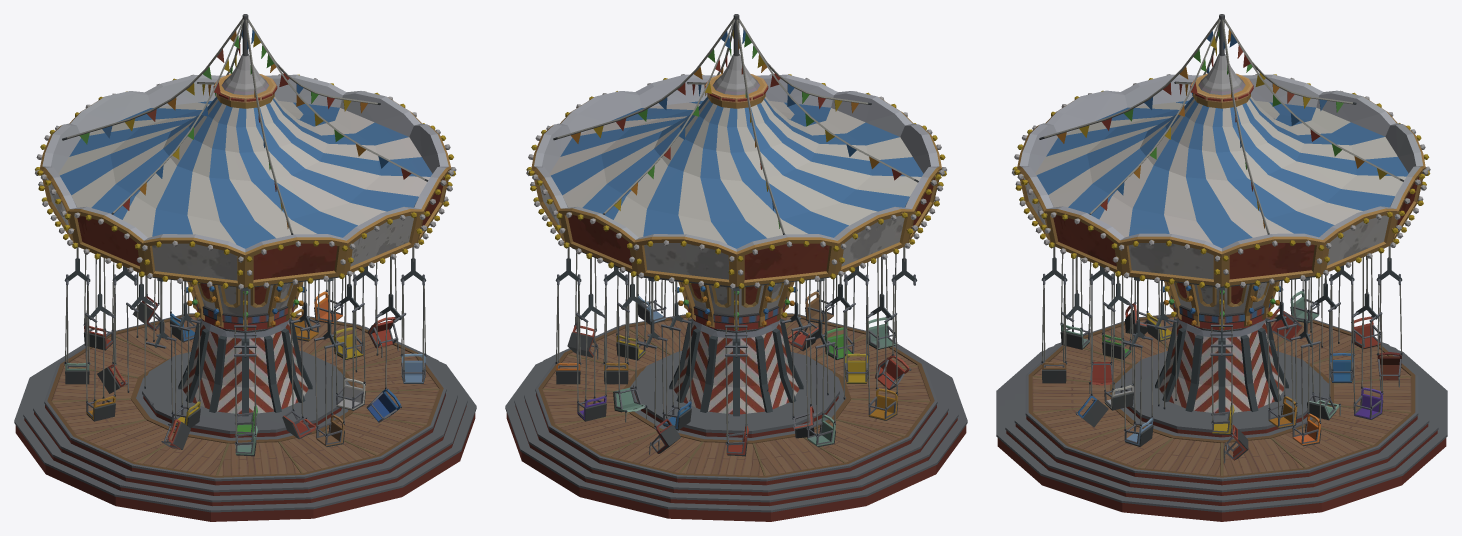
Rendered from SM_Prop_Swinging_Chairs_01.glb.
3 views of the same model, side by side, from view 1: azimuth 30°, elevation 25°; view 2: azimuth 150°, elevation 25°; view 3: azimuth 270°, elevation 25° (orthographic).
Parts seen in each view (by area): view 1: SM_Prop_Swinging_Chairs_01, SM_Prop_Swinging_Chairs_01_woodFloor_01; view 2: SM_Prop_Swinging_Chairs_01, SM_Prop_Swinging_Chairs_01_woodFloor_01; view 3: SM_Prop_Swinging_Chairs_01, SM_Prop_Swinging_Chairs_01_woodFloor_01.
Part boxes in pixels (x1,y1,x2,y2): SM_Prop_Swinging_Chairs_01: (14,14,476,521); SM_Prop_Swinging_Chairs_01_woodFloor_01: (52,316,438,475); SM_Prop_Swinging_Chairs_01: (505,14,967,521); SM_Prop_Swinging_Chairs_01_woodFloor_01: (543,316,929,475); SM_Prop_Swinging_Chairs_01: (996,14,1447,521); SM_Prop_Swinging_Chairs_01_woodFloor_01: (1032,317,1411,475).
Bounding box in the file's own units: 1278 × 1249 × 1246.
2 materials, 2 textured.
